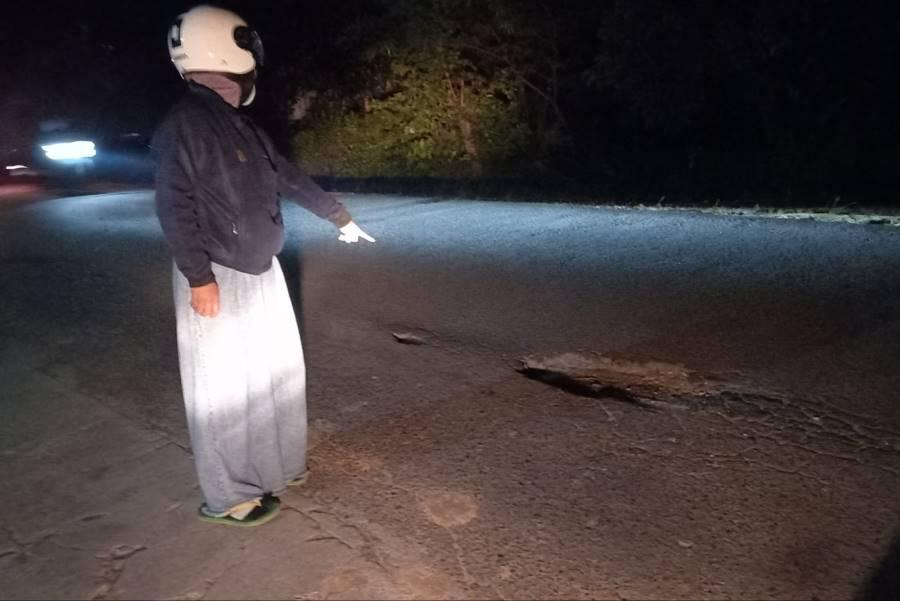Pothole: (469, 326, 865, 484), (356, 306, 449, 387)
